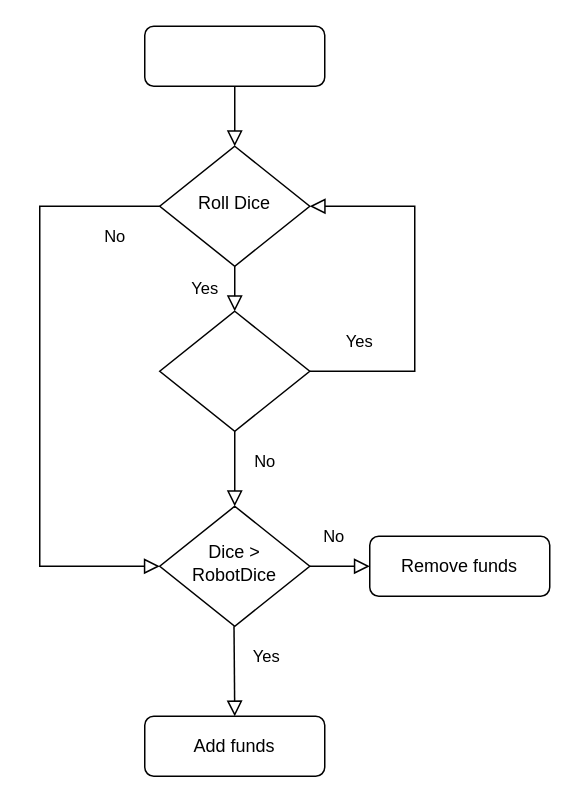
Some shapes in this 576 by 803 pixel diagram are drawn without their labels. The shapes that lost their labels are listed below. From the top down, each one's box as (x1, y1, x2, y2) in pixels, then its label:
(143, 25, 325, 86): Funds > bet
(158, 310, 310, 431): Dice < 21
